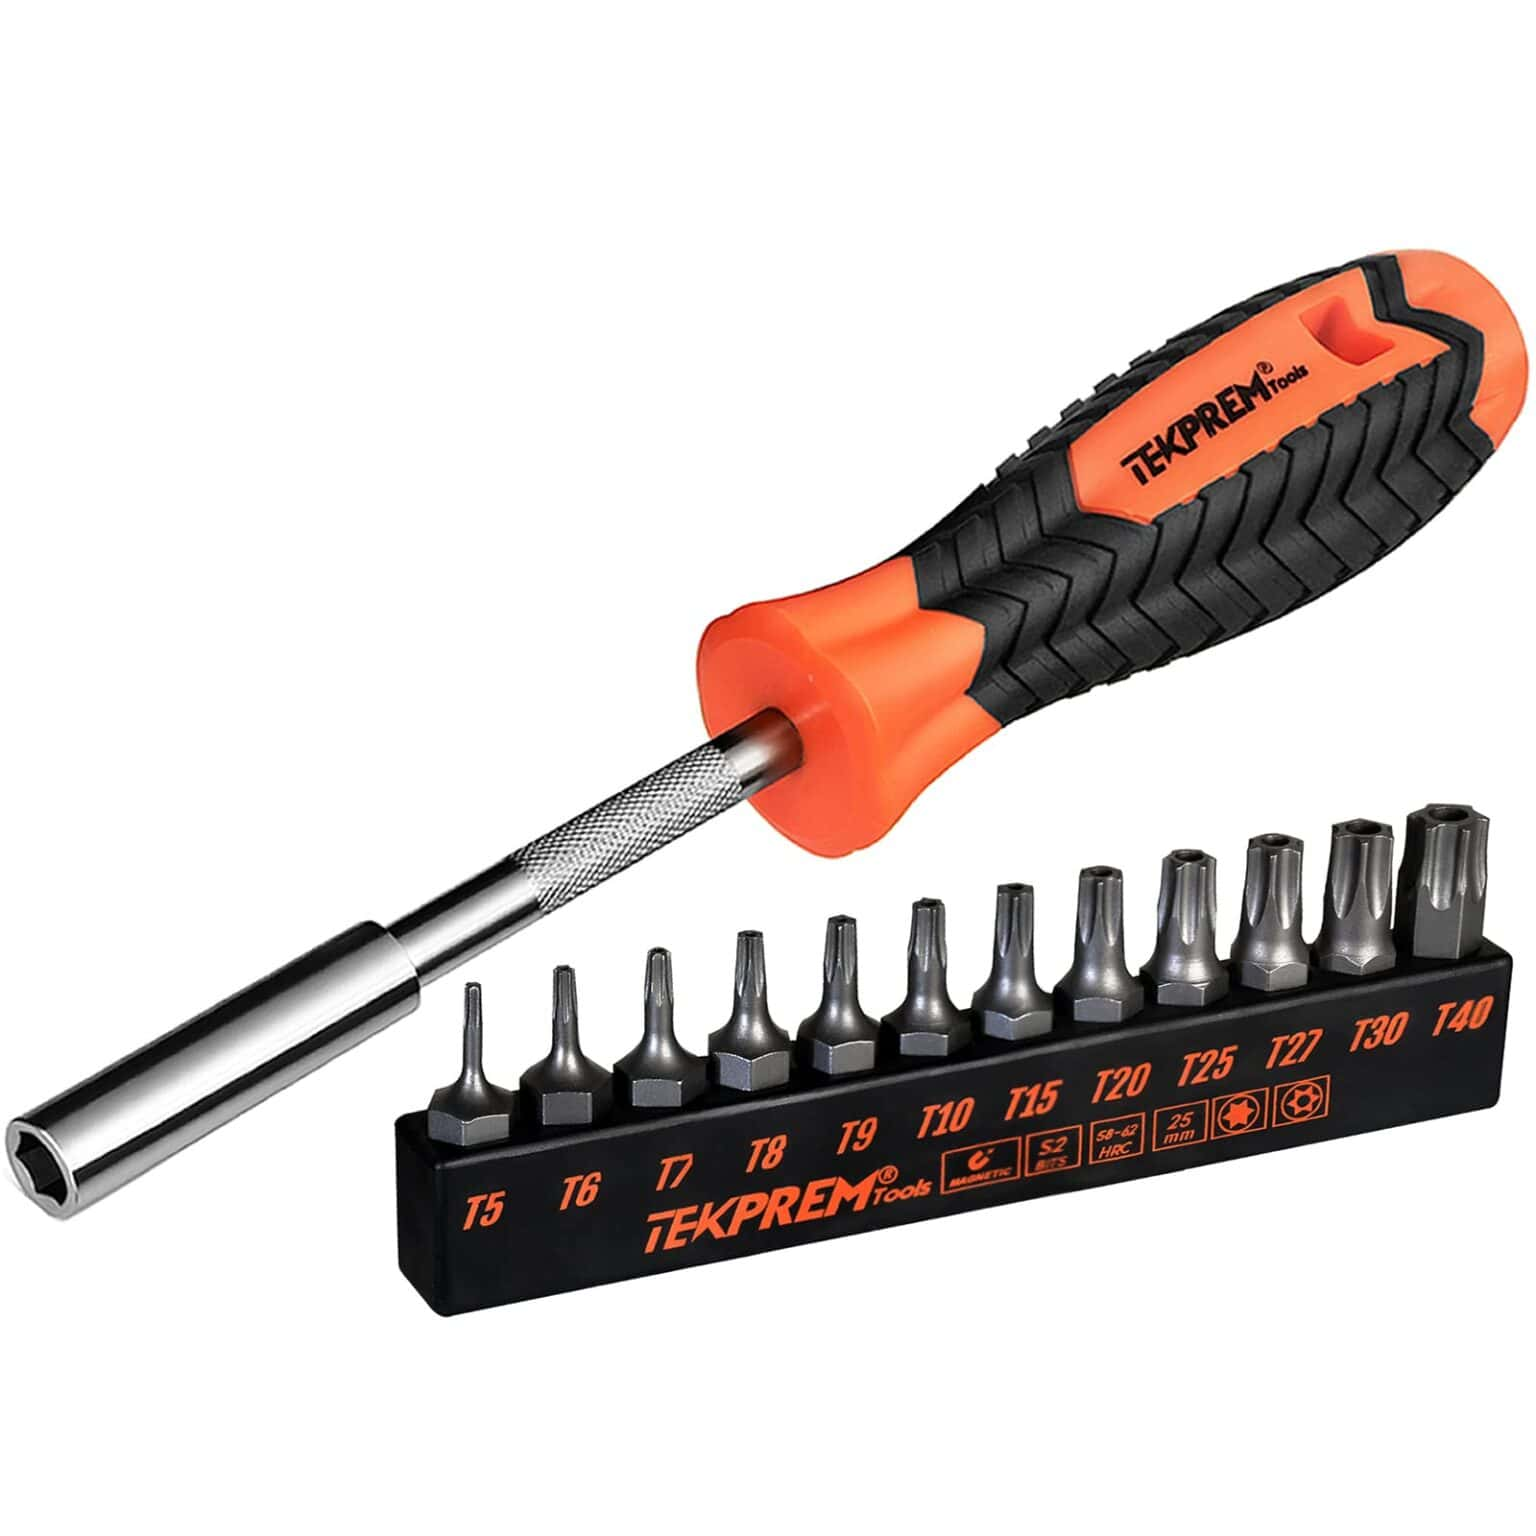screwdriver: (7, 250, 1530, 1222)
